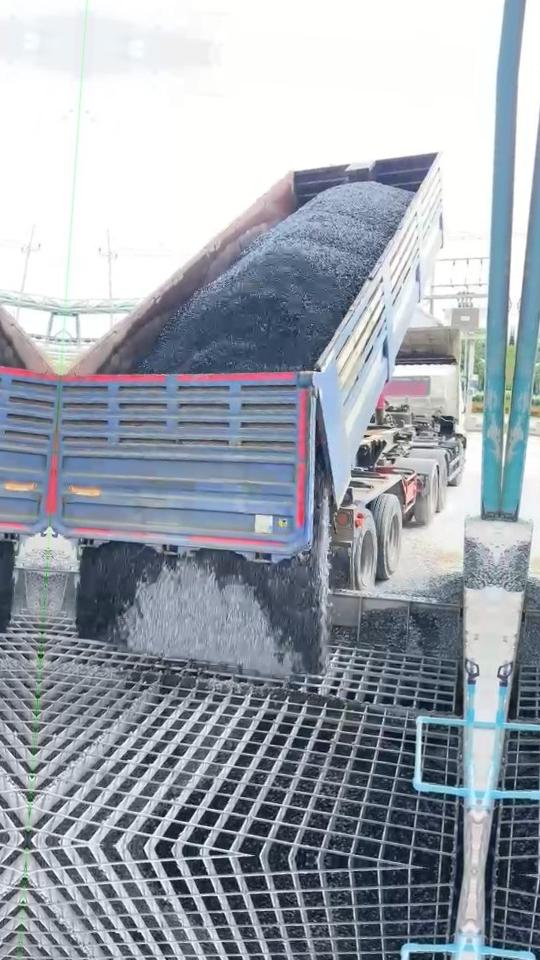gravel: (133, 182, 412, 373), (78, 473, 329, 676), (361, 573, 463, 659), (464, 538, 497, 589)
